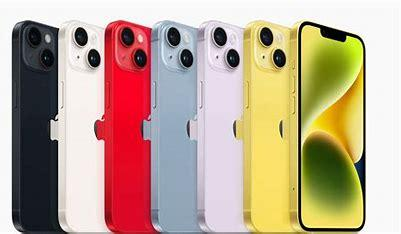-iphone13: (237, 15, 384, 231)
